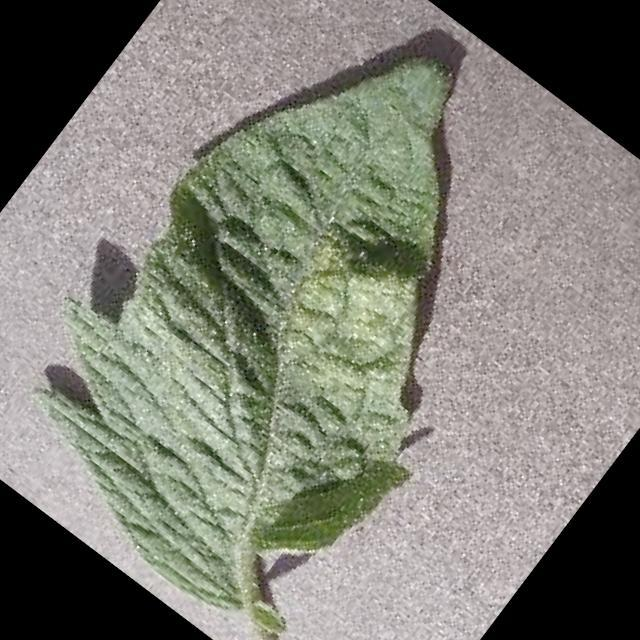Tomato spider mites leaf: (0, 0, 633, 640)
